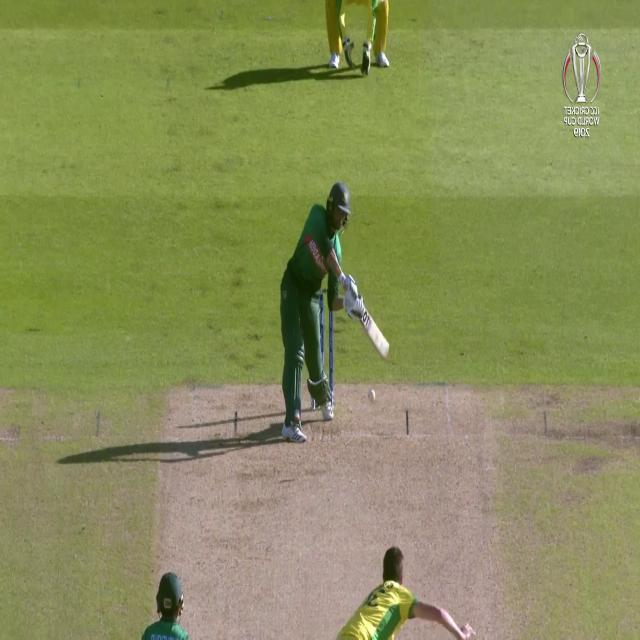ball: (366, 385, 379, 405)
